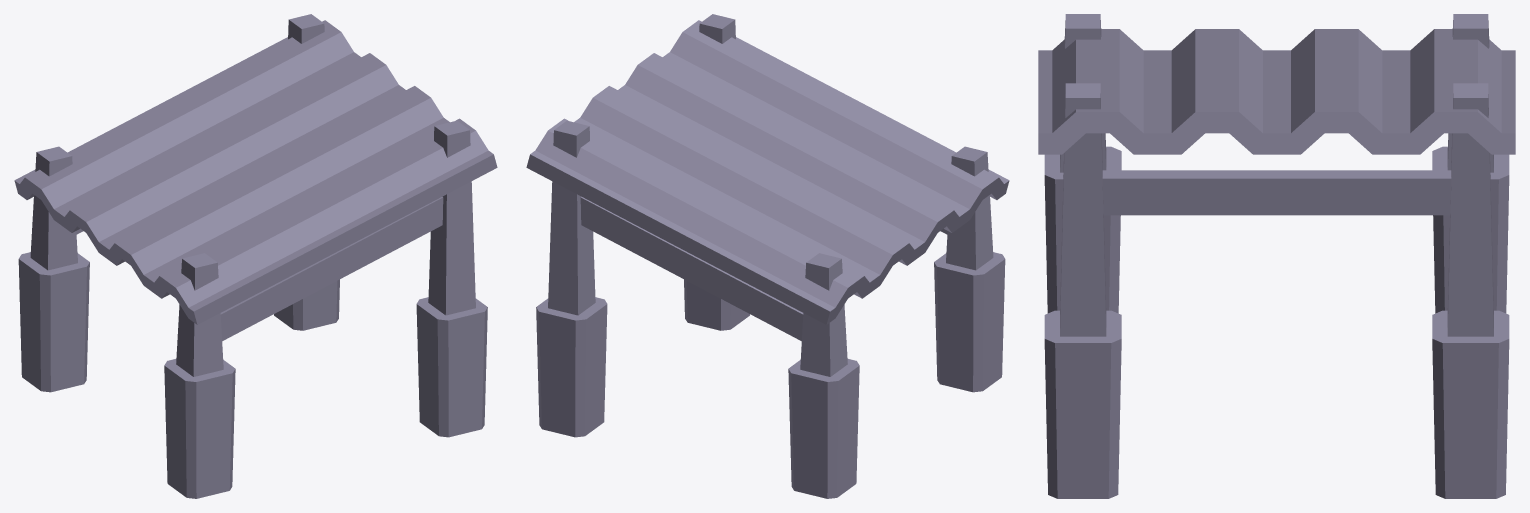
File: structure-metal-roof.obj
3 views of the same model, side by side, from view 1: azimuth 30°, elevation 25°; view 2: azimuth 150°, elevation 25°; view 3: azimuth 270°, elevation 25° (orthographic). The views are drawn at different scales.
Bounding box in the file's own units: 0.5442 × 0.5 × 0.55.
